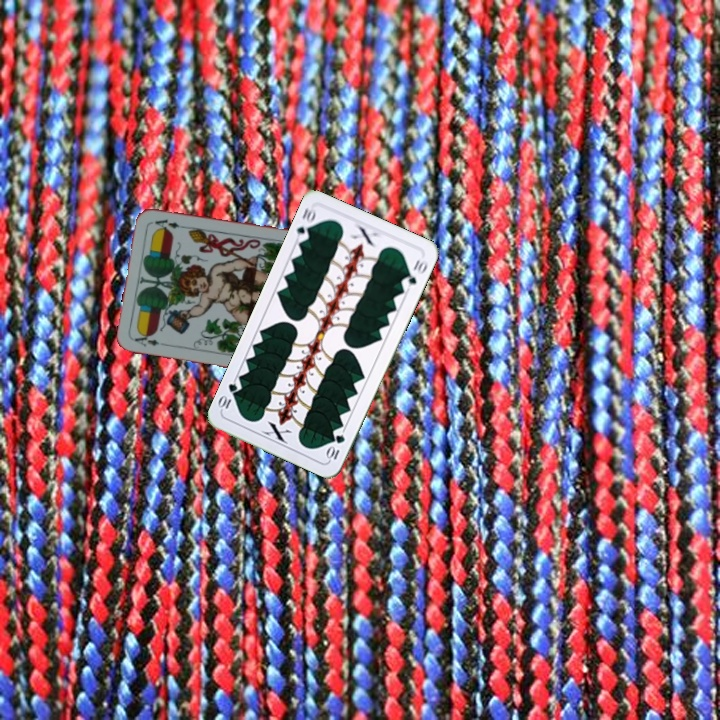EA: (130, 330, 171, 349)
G10: (292, 203, 318, 244), (323, 430, 348, 463)
